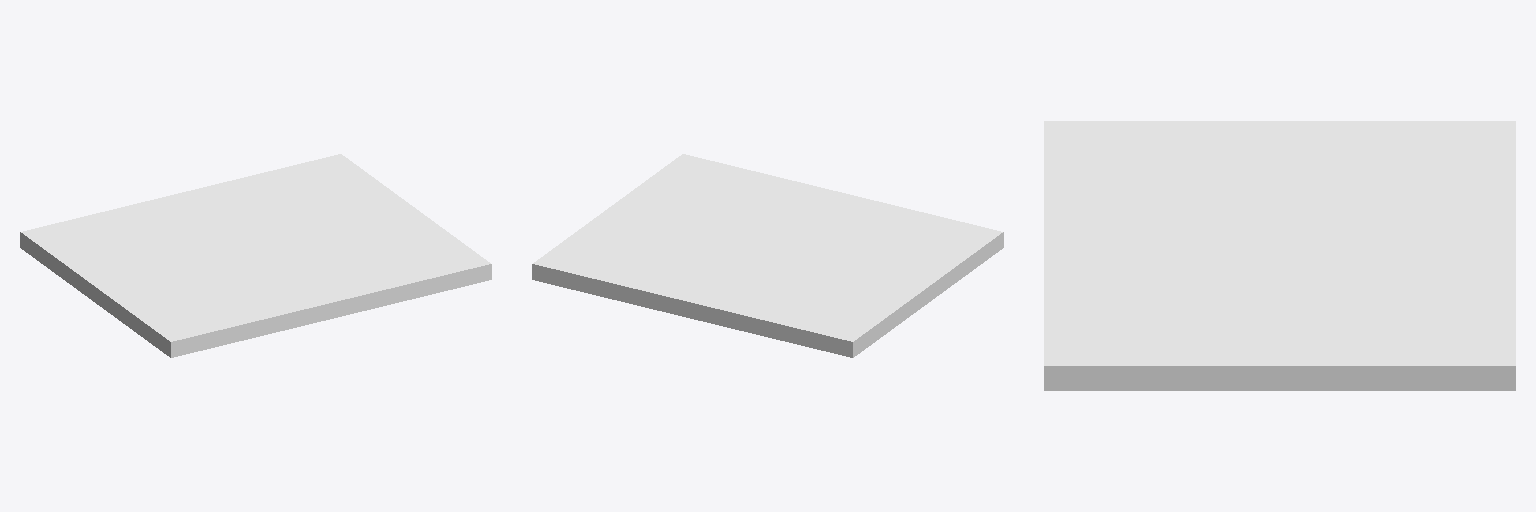
URDF robot description (wheeltec_robot):
<?xml version="1.0" ?>
<robot name="wheeltec_robot">

    <link name="base_link">
        <visual>
        <origin xyz="0 0.08 0.045" rpy="0 0 0" />
        <geometry>
            <box size="1.04 0.845 0.05"/>
        </geometry>
        <material name="white">
            <color rgba="1 1 1 1"/>
        </material>
        </visual>
        <collision>
        <origin xyz="0 0.08 0.045" />
        <geometry>
            <box size="1.04 0.845 0.05"/>
        </geometry>
        </collision>
    </link>   

    <joint name="left_wheel_joint" type="continuous">
        <origin xyz="0 0.08 0.0325" rpy="1.57 0 0"/>
        <parent link="base_link"/>
        <child link="left_wheel_link"/>
        <axis xyz="0 1 0"/>
    </joint>

    <link name="left_wheel_link">
        <visual>
            <origin xyz="0 0 0" rpy="0 0 0" />
            <geometry>
                <cylinder radius="0.0325" length = "0.025"/>
            </geometry>
            <material name="black">
                <color rgba="0 0 0 1"/>
            </material>
        </visual>
    </link>

    <joint name="right_wheel_joint" type="continuous">
        <origin xyz="0 -0.08 0.0325" rpy="1.57 0 0"/>
        <parent link="base_link"/>
        <child link="right_wheel_link"/>
        <axis xyz="0 1 0"/>
    </joint>

    <link name="right_wheel_link">
        <visual>
            <origin xyz="0 0 0" rpy="0 0 0" />
            <geometry>
                <cylinder radius="0.0325" length = "0.025"/>
            </geometry>
            <material name="black">
                <color rgba="0 0 0 1"/>
            </material>
        </visual>
    </link>

    <joint name="front_wheel_joint" type="continuous">
        <origin xyz="0.15 0 0.0325" rpy="1.57 0 0"/>
        <parent link="base_link"/>
        <child link="front_wheel_link"/>
        <axis xyz="0 1 0"/>
    </joint>

    <link name="front_wheel_link">
        <visual>
            <origin xyz="0 0 0" rpy="0 0 0" />
            <geometry>
                <cylinder radius="0.0325" length = "0.025"/>
            </geometry>
            <material name="black">
                <color rgba="0 0 0 1"/>
            </material>
        </visual>
    </link>


</robot>

--- Facts derived from the render (not from the file) ---
Views: 3 orthographic renders of the robot side by side, from view 1: azimuth 30°, elevation 25°; view 2: azimuth 150°, elevation 25°; view 3: azimuth 270°, elevation 25°.
Robot: wheeltec_robot — 4 links, 3 joints (3 continuous); root link base_link; default pose: all joints at 0.
Visible links, largest first — view 1: base_link; view 2: base_link; view 3: base_link.
Boxes of the visible links, x1,y1,x2,y2 form: base_link: (20, 154, 491, 357); base_link: (532, 154, 1003, 357); base_link: (1044, 121, 1515, 390).
Size in the robot's own frame: 1.04 by 0.845 by 0.07 metres.
Geometry: primitives only (box / cylinder / sphere), no mesh files.
